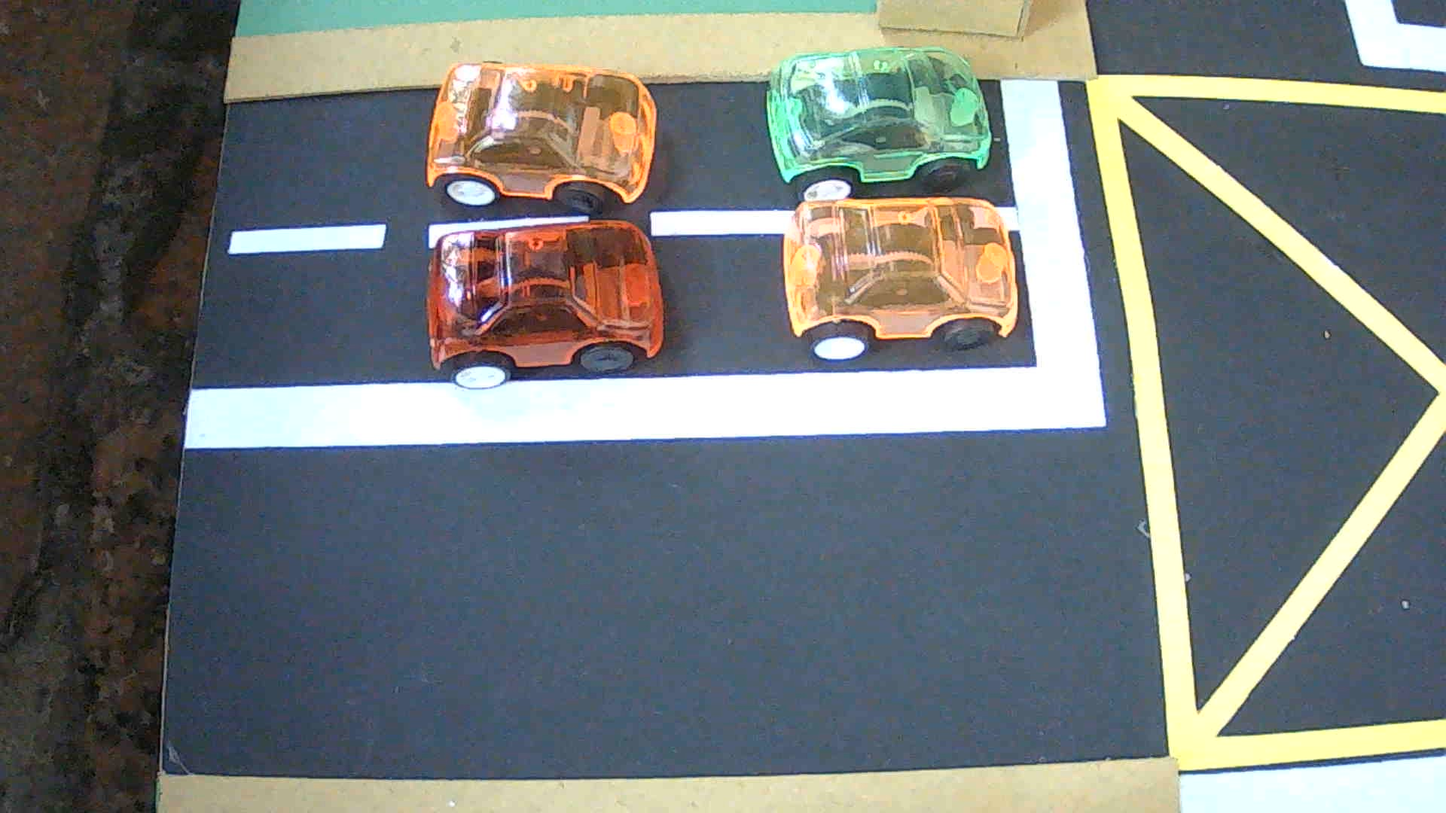Mobil hijau: (767, 47, 991, 201)
Mobil merah: (427, 221, 664, 389)
Mobil orange: (782, 197, 1018, 360), (427, 62, 655, 215)
